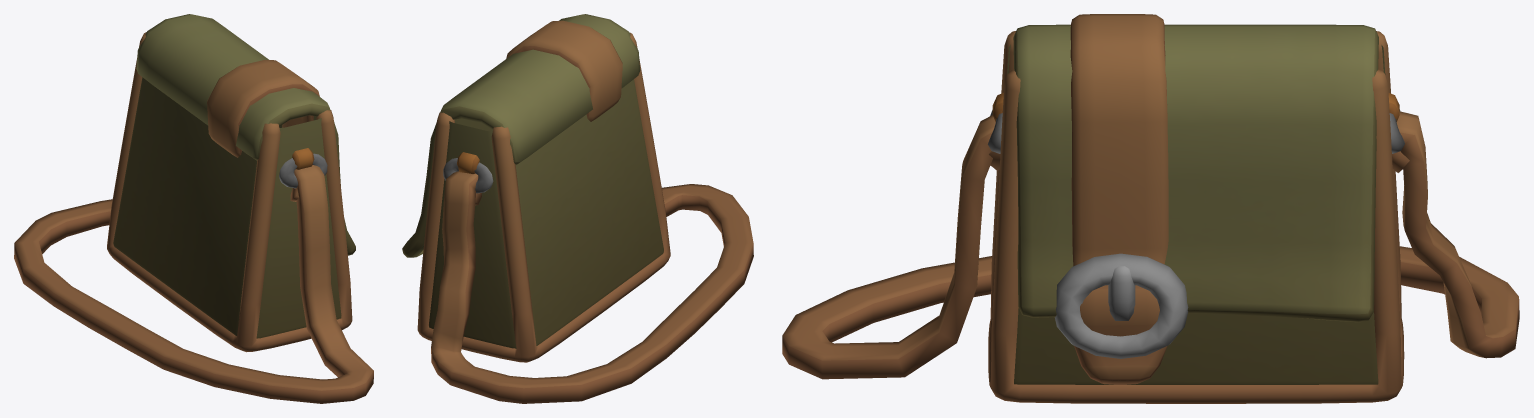
The model's file is obj_Bag.fbx.
3 renders of one model, left to right at view 1: azimuth 30°, elevation 25°; view 2: azimuth 150°, elevation 25°; view 3: azimuth 270°, elevation 25°, orthographic. The views are drawn at different scales.
Visible parts, largest first — view 1: obj_Bag; view 2: obj_Bag; view 3: obj_Bag.
Part boxes in pixels (x1,y1,x2,y2): obj_Bag: (14, 14, 373, 403); obj_Bag: (402, 14, 753, 403); obj_Bag: (782, 14, 1519, 403).
Size of the model in its own units: 42.26 by 42.73 by 81.51.
